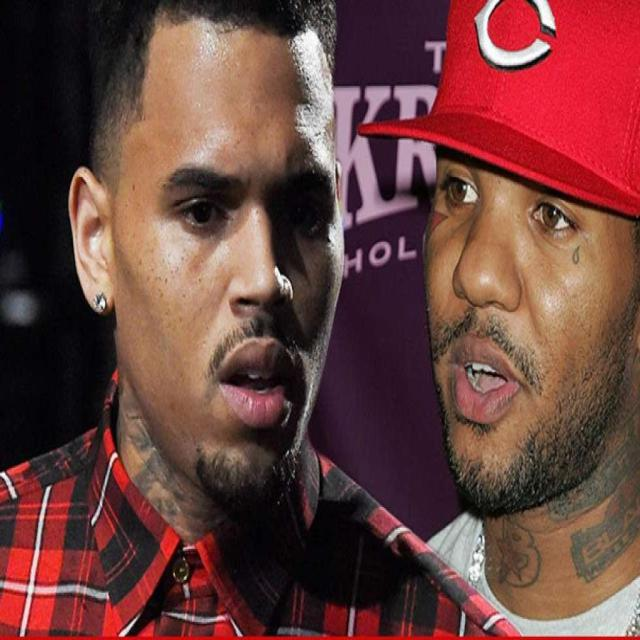Face: (122, 12, 354, 512), (433, 135, 640, 510)
